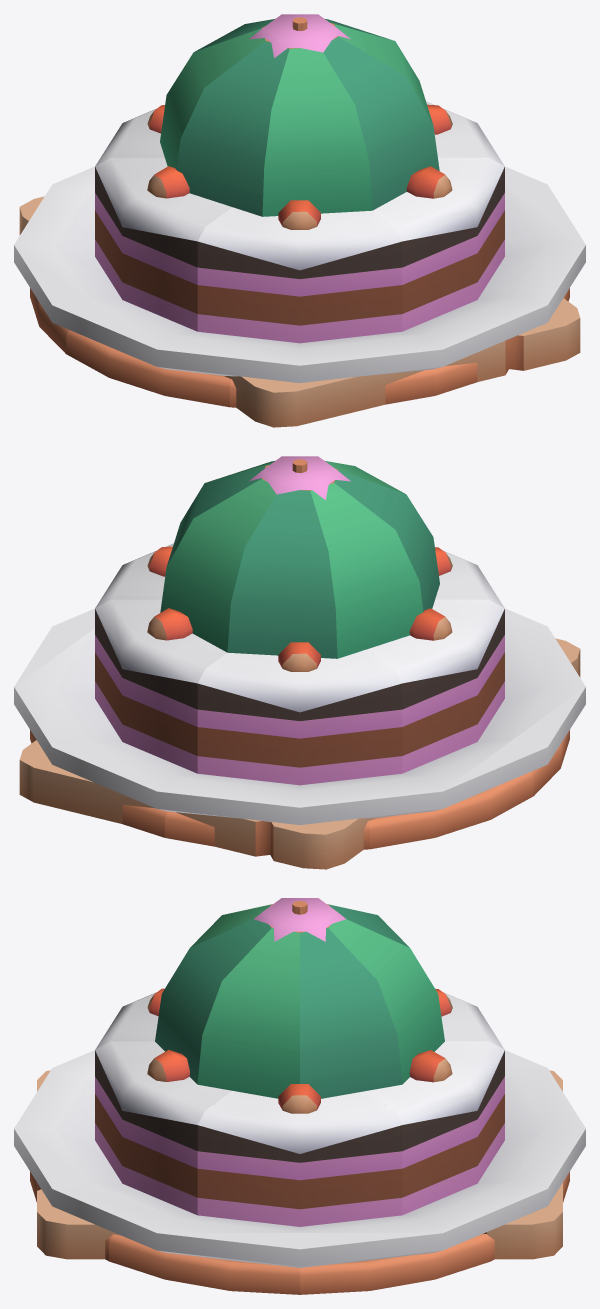
File: kenney-food.glb
The picture shows the model from 3 angles, top to bottom: view 1: azimuth 30°, elevation 25°; view 2: azimuth 150°, elevation 25°; view 3: azimuth 270°, elevation 25°; orthographic projection.
Visible parts, largest first — view 1: slice (×10), plate, cutting-board, slice8, Group, slice7, slice6, slice1; view 2: slice (×10), plate, cutting-board, slice1, Group, slice2, slice3, slice8; view 3: slice (×11), plate, cutting-board, slice4, slice5, Group.
Boxes of the visible parts, bbox=[...] form: slice (×10): bbox=[95, 19, 504, 343]; plate: bbox=[14, 166, 585, 382]; cutting-board: bbox=[19, 196, 580, 427]; slice8: bbox=[66, 330, 231, 407]; Group: bbox=[249, 14, 350, 57]; slice7: bbox=[230, 369, 434, 407]; slice6: bbox=[432, 363, 477, 395]; slice1: bbox=[30, 288, 69, 353]; slice (×10): bbox=[95, 461, 504, 785]; plate: bbox=[14, 608, 585, 824]; cutting-board: bbox=[19, 638, 580, 869]; slice1: bbox=[368, 772, 533, 849]; Group: bbox=[249, 456, 350, 499]; slice2: bbox=[165, 811, 369, 849]; slice3: bbox=[122, 805, 167, 837]; slice8: bbox=[530, 730, 569, 795]; slice (×11): bbox=[95, 902, 504, 1226]; plate: bbox=[14, 1050, 585, 1267]; cutting-board: bbox=[37, 1070, 562, 1259]; slice4: bbox=[300, 1234, 490, 1294]; slice5: bbox=[109, 1234, 299, 1294]; Group: bbox=[254, 898, 345, 941].
Bounding box in the file's own units: 0.8918 × 0.4761 × 0.8918.
Materials: 1 (1 with a texture image).
